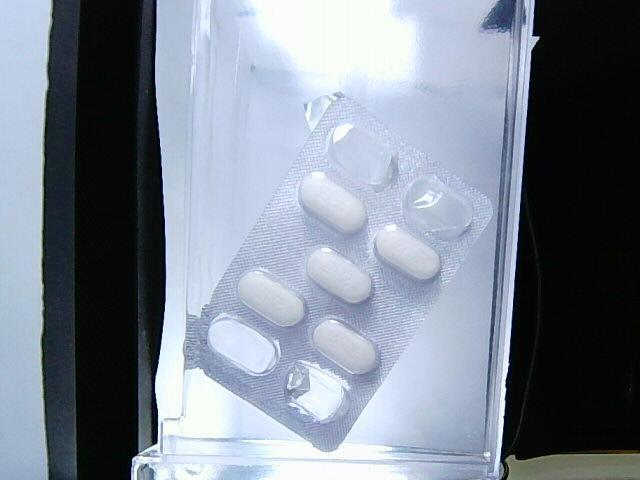Light Front: (180, 93, 495, 456)
No Pill Front: (326, 123, 399, 189), (208, 314, 280, 376), (404, 175, 472, 239), (286, 361, 349, 422)
Pill Front: (300, 173, 367, 235), (238, 270, 305, 326), (374, 225, 441, 280), (311, 319, 378, 374), (306, 248, 371, 303)
